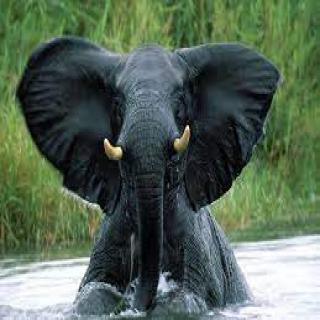Elephant: (12, 28, 284, 320)
